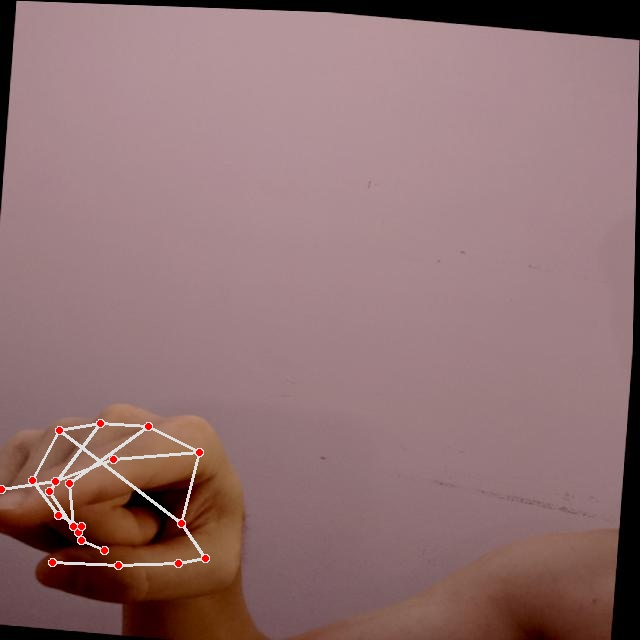Z: (0, 388, 265, 622)
